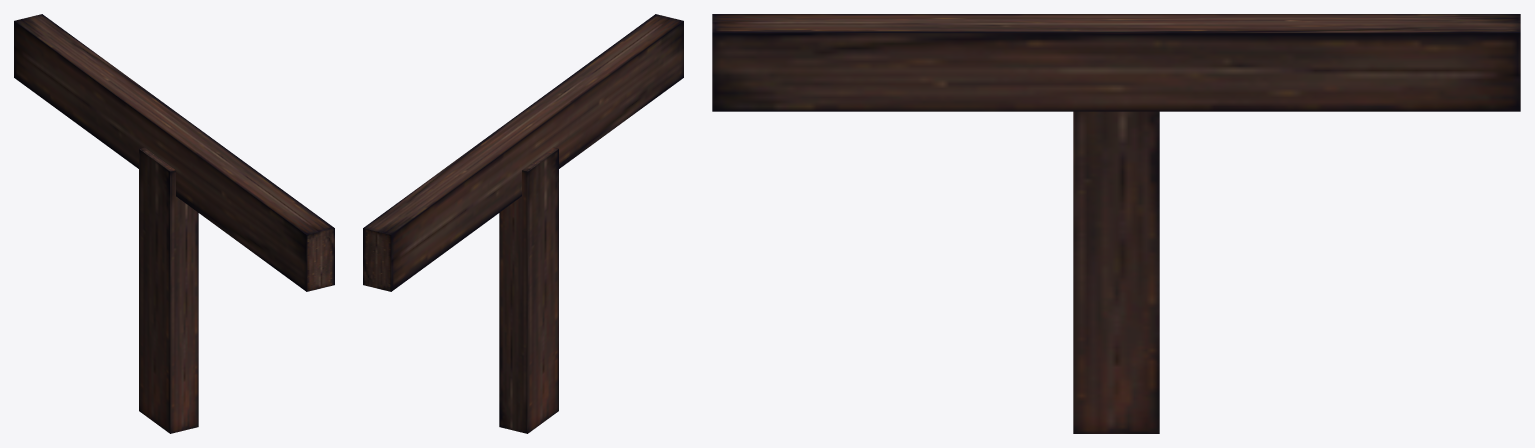
Rendered from woodpartD.obj.
3 renders of one model, left to right at view 1: azimuth 30°, elevation 25°; view 2: azimuth 150°, elevation 25°; view 3: azimuth 270°, elevation 25°, orthographic. The views are drawn at different scales.
Parts seen in each view (by area): view 1: Cube.002_Cube.000; view 2: Cube.002_Cube.000; view 3: Cube.002_Cube.000.
Part boxes in pixels (x1,y1,x2,y2): Cube.002_Cube.000: (14,14,334,433); Cube.002_Cube.000: (363,14,683,433); Cube.002_Cube.000: (712,14,1520,433).
Size of the model in its own units: 0.493 by 4.06 by 7.35.
